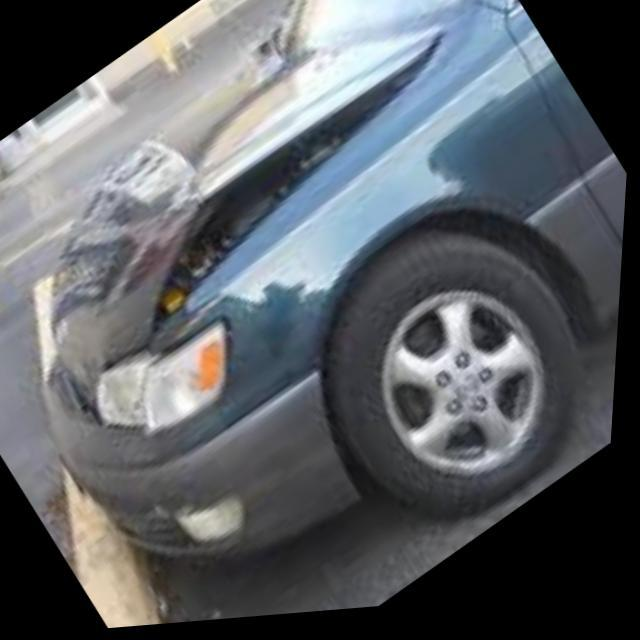dent: (49, 292, 123, 415)
dislocated part: (152, 39, 457, 331)
